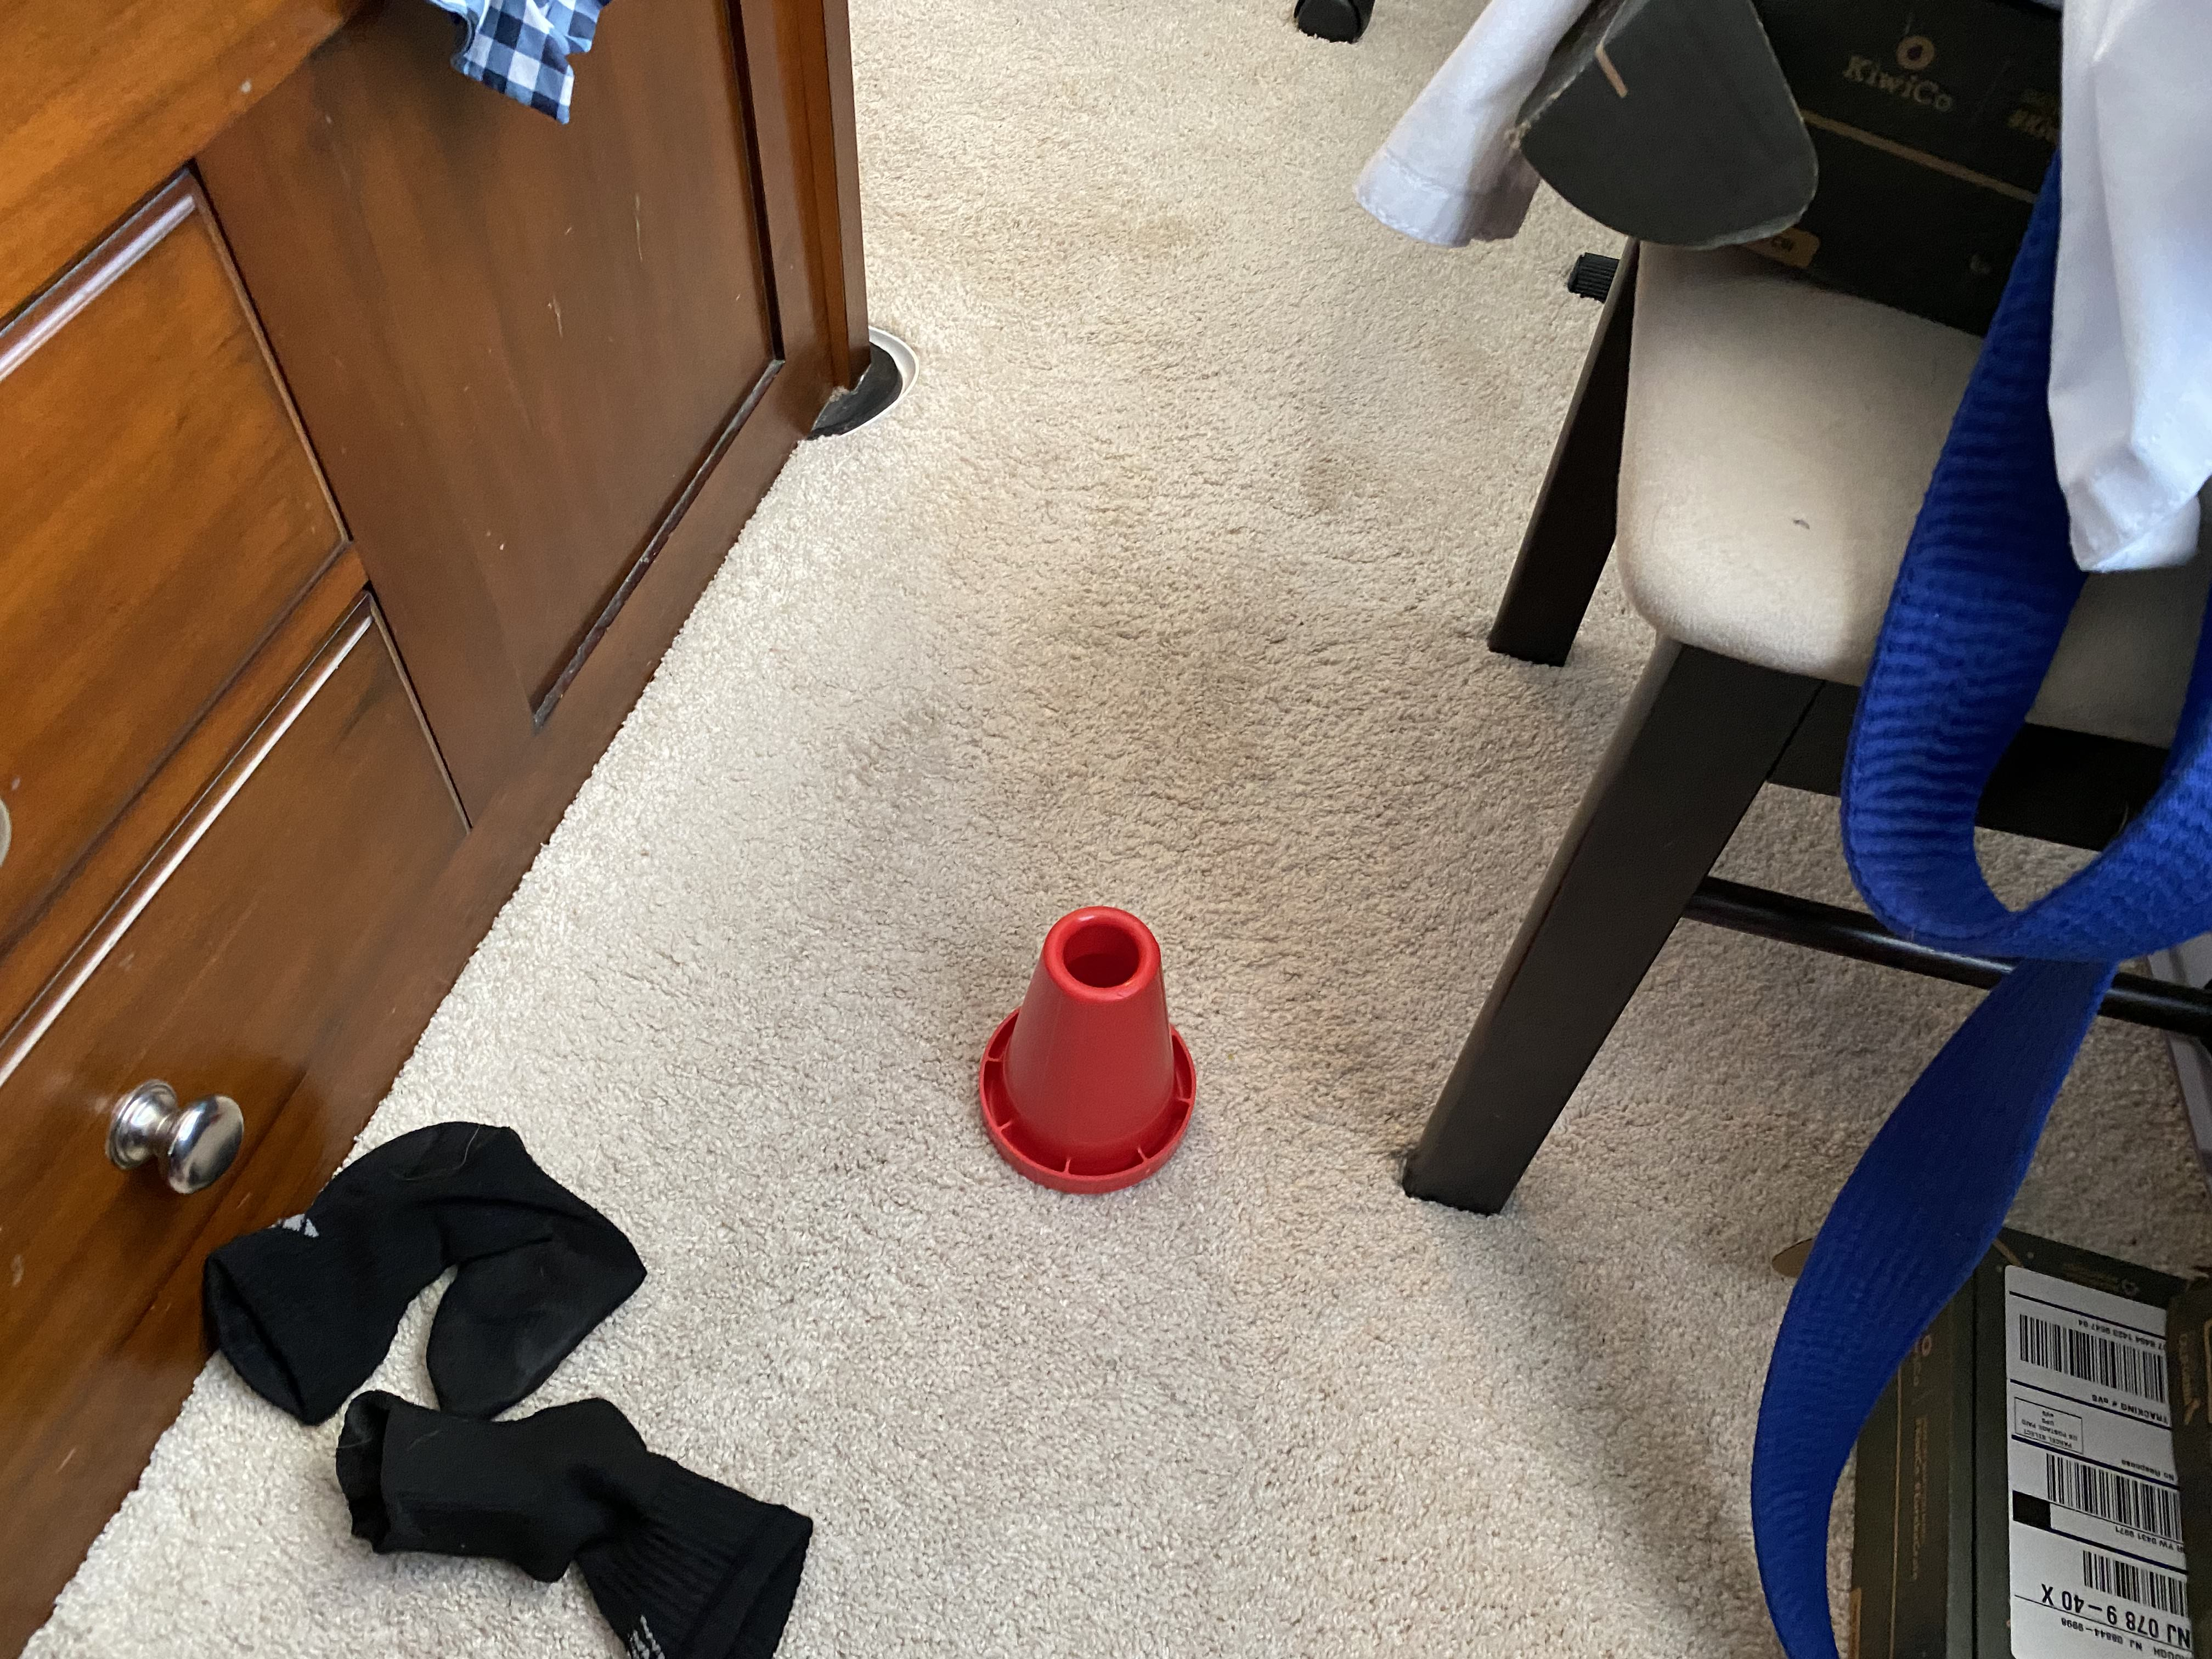redCone: (970, 903, 1204, 1197)
